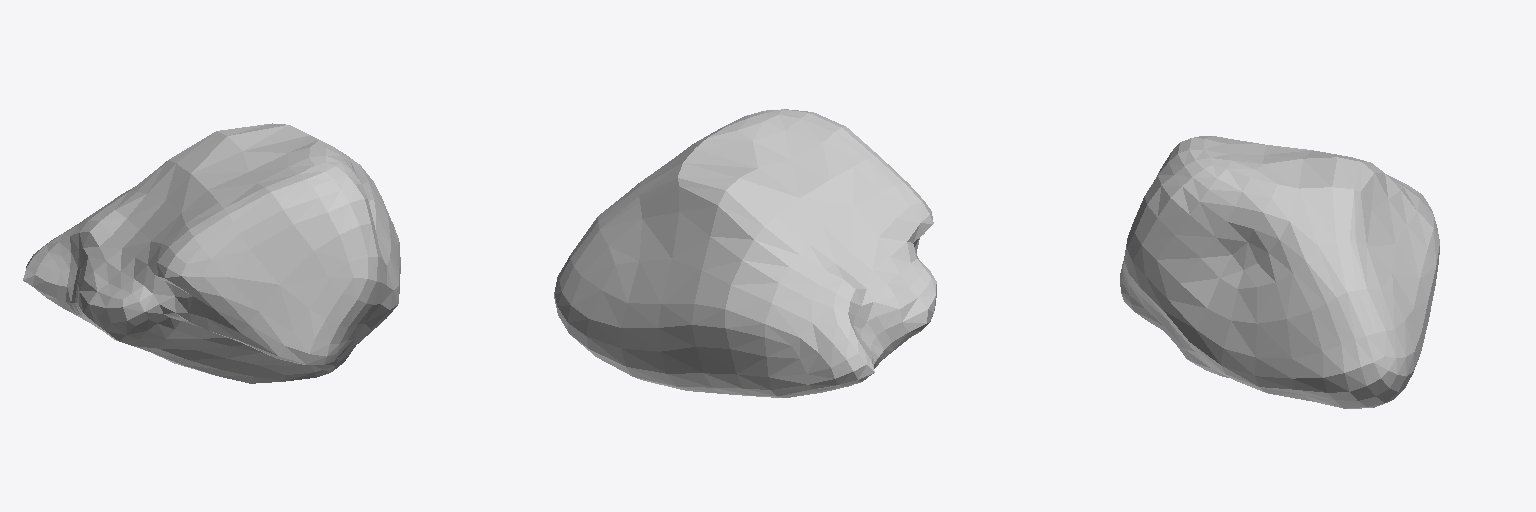
File: rock.obj
The picture shows the model from 3 angles: view 1: azimuth 30°, elevation 25°; view 2: azimuth 150°, elevation 25°; view 3: azimuth 270°, elevation 25°; orthographic projection.
Parts seen in each view (by area): view 1: RiverRock_OBJ; view 2: RiverRock_OBJ; view 3: RiverRock_OBJ.
Boxes of the visible parts, x1,y1,x2,y2 form: RiverRock_OBJ: [23, 123, 400, 383]; RiverRock_OBJ: [554, 109, 936, 397]; RiverRock_OBJ: [1120, 136, 1439, 408].
Bounding box in the file's own units: 29.87 × 18.45 × 24.35.